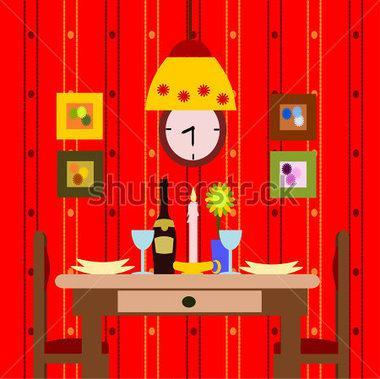bottle: (150, 177, 179, 272)
chair: (274, 228, 352, 379), (31, 230, 109, 377)
diningtable: (54, 272, 321, 377)
